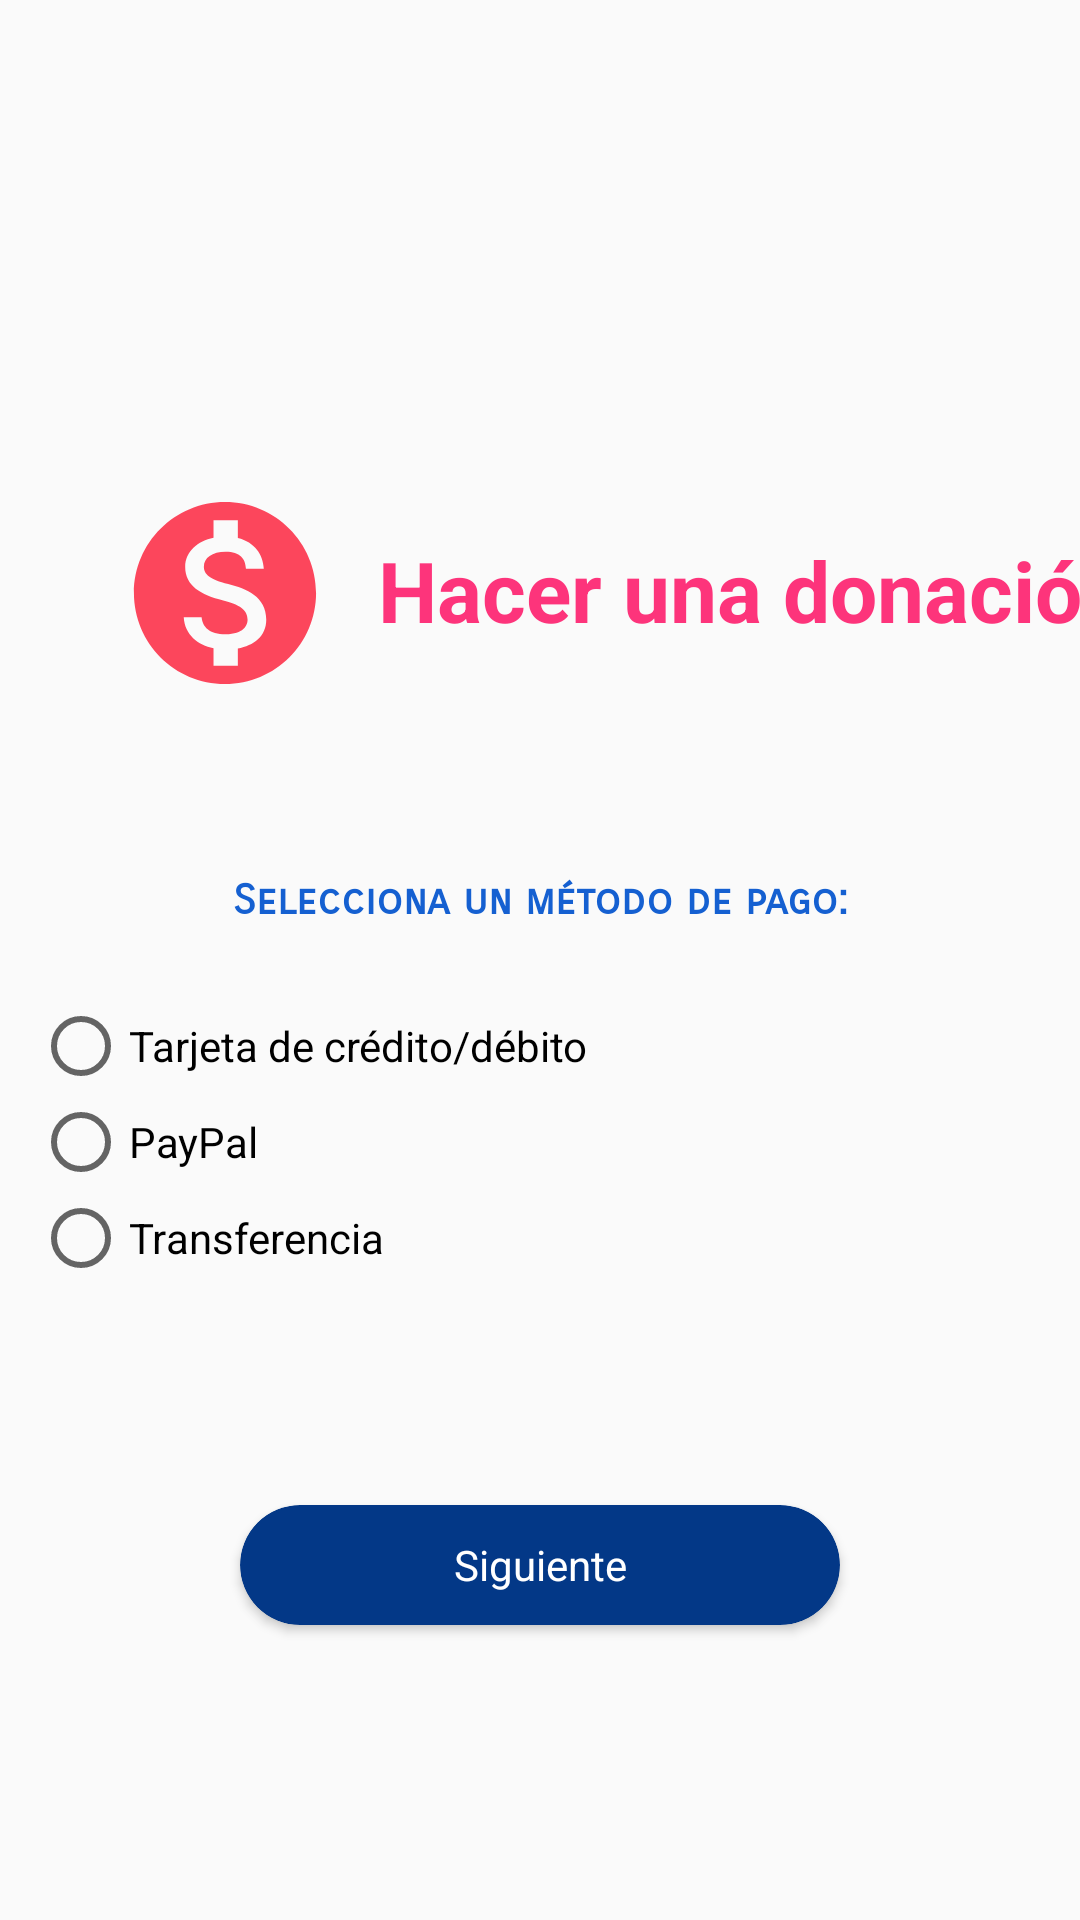

Icons on this 1080 × 1920 Android screen, each with its box as (x1, y1, x2, y2):
donation symbol: (133, 502, 316, 684)
